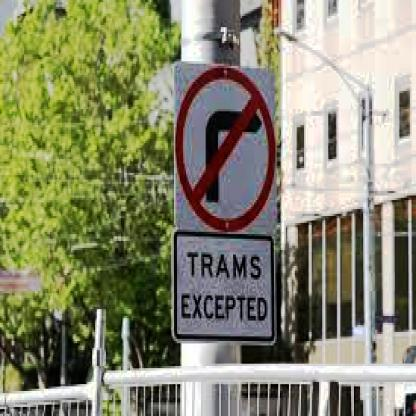No right turn: (178, 63, 280, 236)
